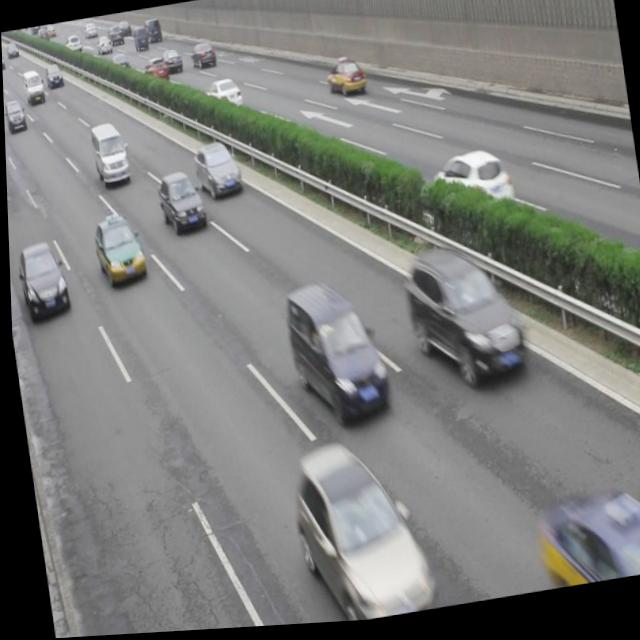car: (283, 436, 427, 627), (398, 242, 526, 400), (280, 277, 390, 434), (428, 151, 512, 223), (14, 240, 69, 321), (90, 213, 146, 289), (154, 170, 206, 238), (190, 142, 242, 204), (323, 58, 365, 102), (205, 79, 243, 115), (3, 98, 26, 134), (140, 58, 168, 87), (188, 44, 215, 70), (44, 63, 65, 89), (160, 51, 181, 76), (131, 26, 148, 53), (109, 53, 129, 74)
truck: (88, 121, 131, 190), (20, 68, 46, 106), (142, 18, 162, 46)
